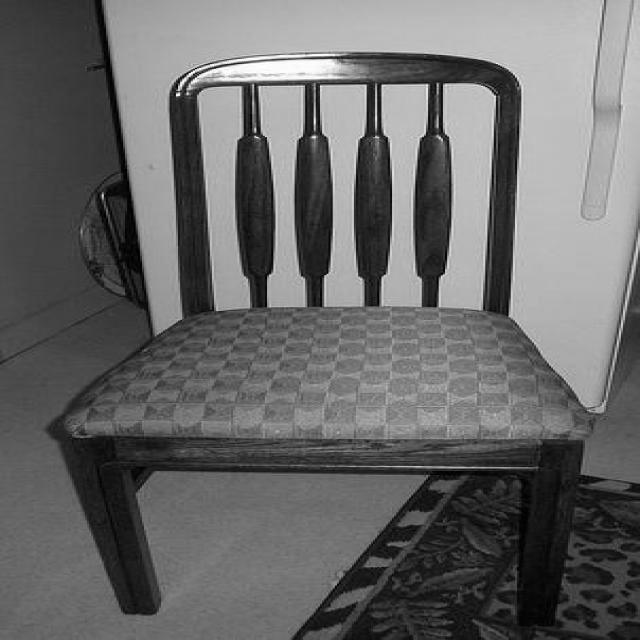chair: (50, 49, 588, 636)
